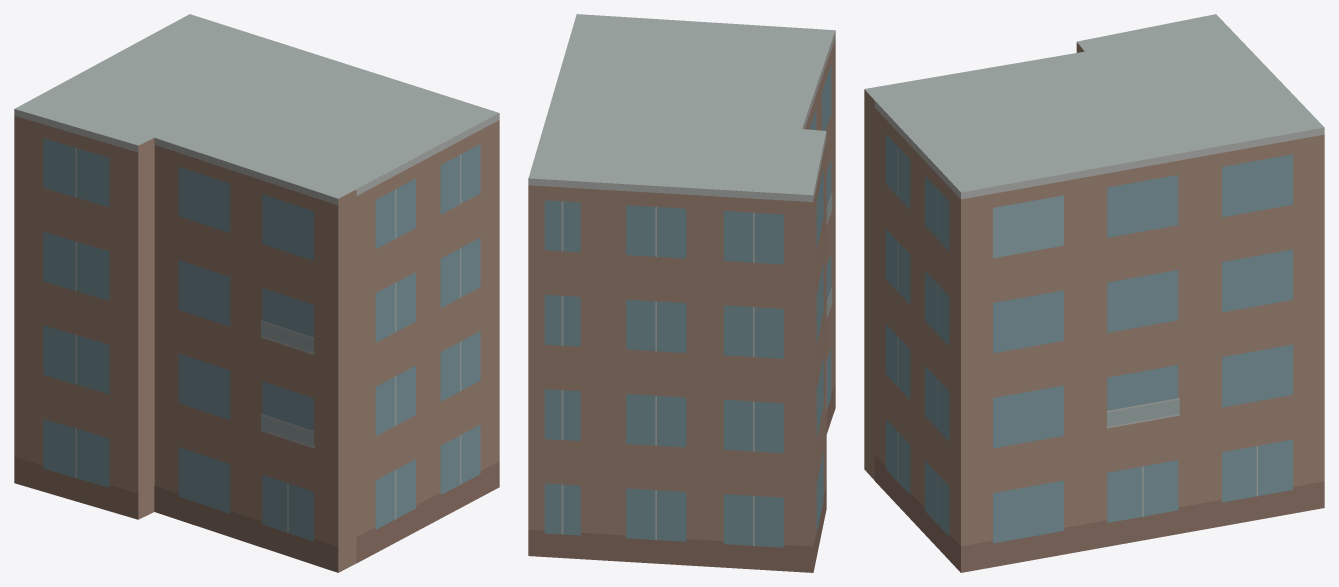
The model's file is survey-upis-32985537.glb.
The picture shows the model from 3 angles, left to right: view 1: azimuth 30°, elevation 25°; view 2: azimuth 150°, elevation 25°; view 3: azimuth 270°, elevation 25°; orthographic projection.
Visible parts, largest first — view 1: survey-upis-32985537.tmp; view 2: survey-upis-32985537.tmp; view 3: survey-upis-32985537.tmp.
Part boxes in pixels (bbox=[...]): survey-upis-32985537.tmp: bbox=[14, 14, 499, 572]; survey-upis-32985537.tmp: bbox=[528, 14, 835, 572]; survey-upis-32985537.tmp: bbox=[864, 14, 1324, 572].
Bounding box in the file's own units: 13.43 × 13.33 × 14.63.
